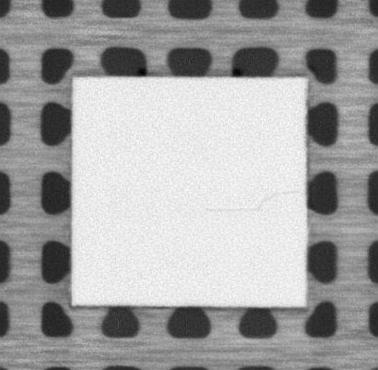DIE_CRACK: (209, 186, 304, 210)
